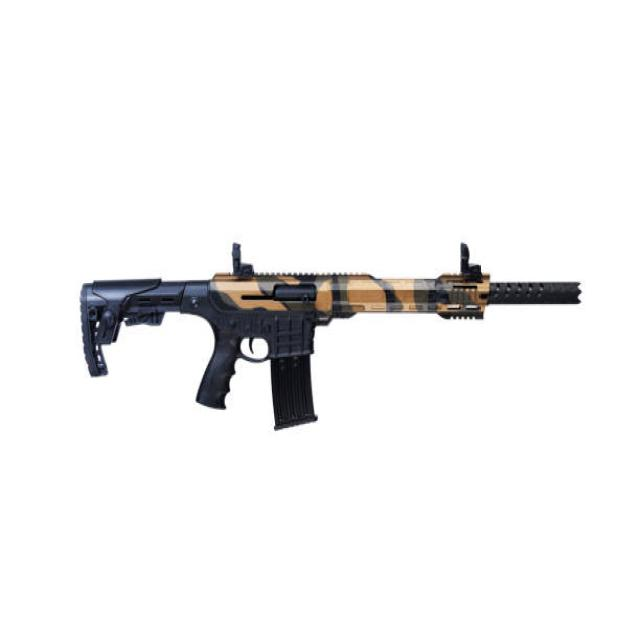rifle: (75, 238, 587, 435)
